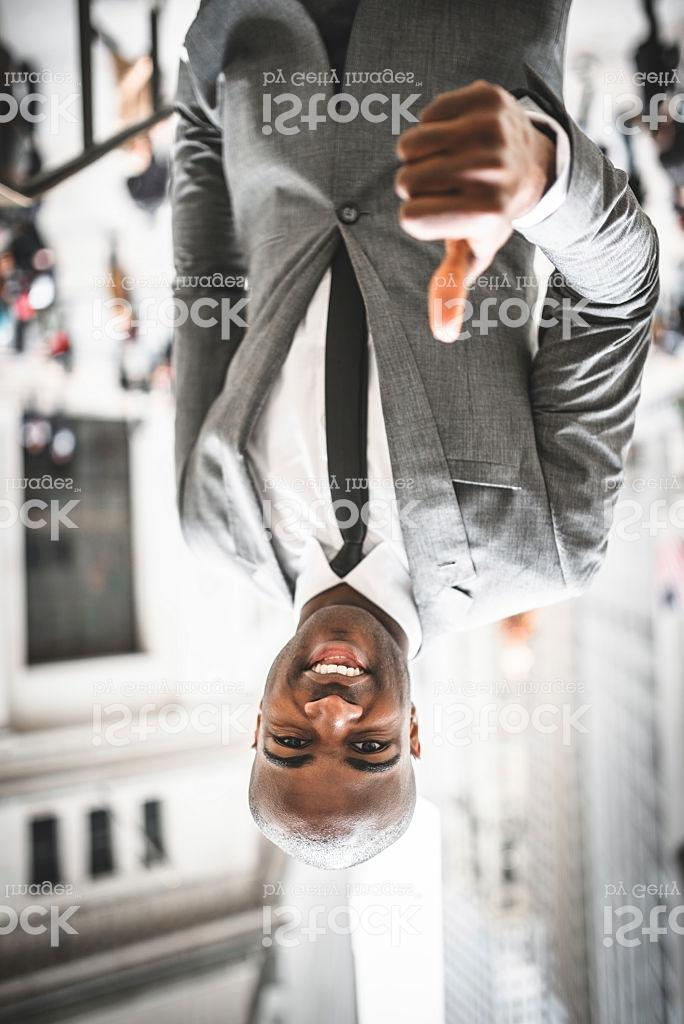thumbsdown: (387, 70, 528, 344)
